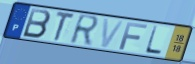B: (21, 8, 52, 41)
F: (118, 21, 149, 51)
L: (143, 25, 164, 57)
R: (68, 13, 101, 48)
T: (53, 11, 76, 43)
V: (100, 17, 126, 49)
